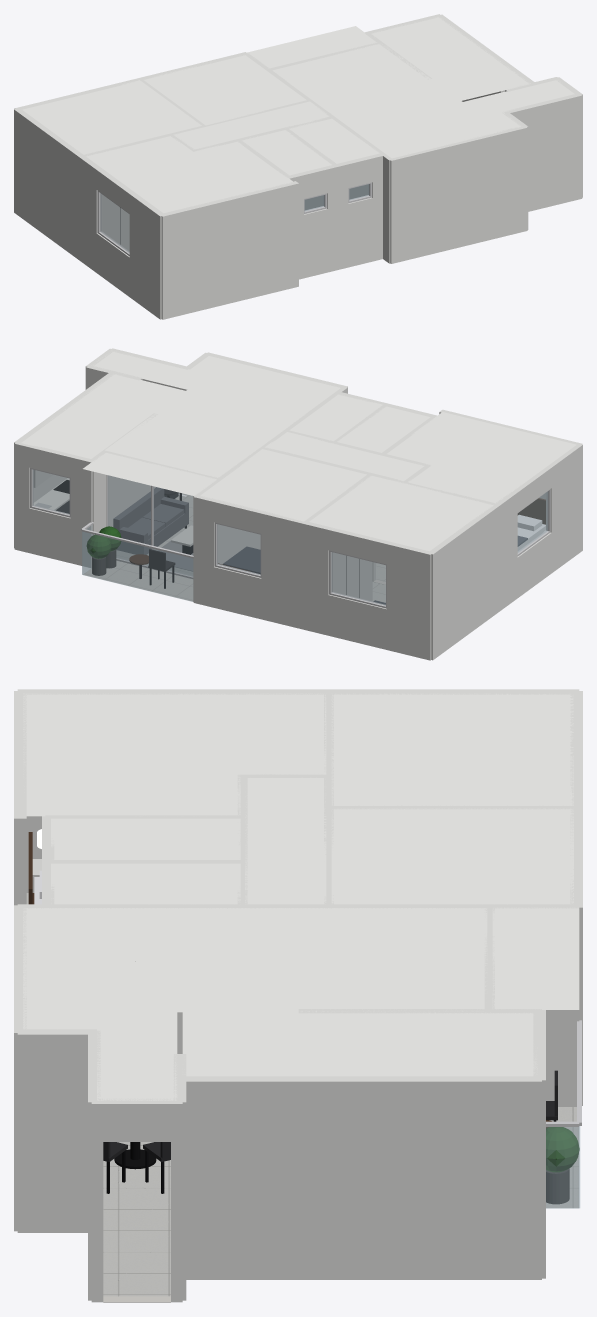
The model's file is modelo_moderno.glb.
3 views of the same model, one above another, from view 1: azimuth 30°, elevation 25°; view 2: azimuth 150°, elevation 25°; view 3: azimuth 270°, elevation 25° (orthographic). The views are drawn at different scales.
Parts seen in each view (by area): view 1: Parede_P03, Parede_P05, Teto_Sala estar/jantar, Parede_P02.003, Teto_Suíte, Teto_Quarto 1, Teto_Quarto 2, Teto_Cozinha, Parede_P07, Parede_P02, Teto_Circulação, Teto_Varanda (+17 smaller); view 2: Teto_Sala estar/jantar, Parede_P02.003, Teto_Suíte, Teto_Quarto 1, Parede_P01.003, Teto_Quarto 2, Teto_Cozinha, Vidro_P15, Parede_P01, GuardaCorpo_vidro, Parede_P02, Teto_Circulação (+36 smaller); view 3: Parede_P10, Teto_Sala estar/jantar, Teto_Suíte, Teto_Quarto 1, Teto_Quarto 2, Teto_Cozinha, Parede_P06, Teto_Circulação, Teto_Varanda, Teto_Banheiro suíte, Teto_Banheiro social, Teto_Hall de entrada (+25 smaller).
Part boxes in pixels (bbox=[...]): Parede_P03: bbox=[160, 181, 298, 319]; Parede_P05: bbox=[388, 125, 527, 263]; Teto_Sala estar/jantar: bbox=[272, 44, 520, 158]; Parede_P02.003: bbox=[14, 108, 102, 272]; Teto_Suíte: bbox=[86, 136, 293, 213]; Teto_Quarto 1: bbox=[22, 80, 201, 154]; Teto_Quarto 2: bbox=[144, 55, 306, 125]; Teto_Cozinha: bbox=[371, 17, 530, 100]; Parede_P07: bbox=[503, 93, 582, 211]; Parede_P02: bbox=[129, 193, 164, 319]; Teto_Circulação: bbox=[173, 101, 329, 149]; Teto_Varanda: bbox=[247, 26, 377, 68]; Teto_Sala estar/jantar: bbox=[105, 356, 340, 477]; Parede_P02.003: bbox=[427, 491, 517, 660]; Teto_Suíte: bbox=[387, 412, 576, 503]; Teto_Quarto 1: bbox=[309, 476, 493, 551]; Parede_P01.003: bbox=[261, 511, 331, 635]; Teto_Quarto 2: bbox=[200, 449, 366, 521]; Teto_Cozinha: bbox=[21, 374, 185, 458]; Vidro_P15: bbox=[108, 475, 192, 576]; Parede_P01: bbox=[386, 541, 433, 660]; GuardaCorpo_vidro: bbox=[82, 532, 193, 601]; Parede_P02: bbox=[546, 443, 582, 572]; Teto_Circulação: bbox=[265, 432, 424, 481]; Parede_P10: bbox=[177, 1076, 541, 1279]; Teto_Sala estar/jantar: bbox=[23, 908, 487, 1030]; Teto_Suíte: bbox=[23, 693, 326, 816]; Teto_Quarto 1: bbox=[331, 693, 573, 805]; Teto_Quarto 2: bbox=[331, 808, 573, 904]; Teto_Cozinha: bbox=[182, 1012, 537, 1076]; Parede_P06: bbox=[17, 1029, 96, 1232]; Teto_Circulação: bbox=[245, 777, 326, 904]; Teto_Varanda: bbox=[492, 907, 579, 1009]; Teto_Banheiro suíte: bbox=[51, 818, 240, 859]; Teto_Banheiro social: bbox=[51, 863, 240, 904]; Teto_Hall de entrada: bbox=[97, 1030, 177, 1100].
Bounding box in the file's own units: 11.66 × 2.6 × 6.76.
24 materials, 2 textured.
